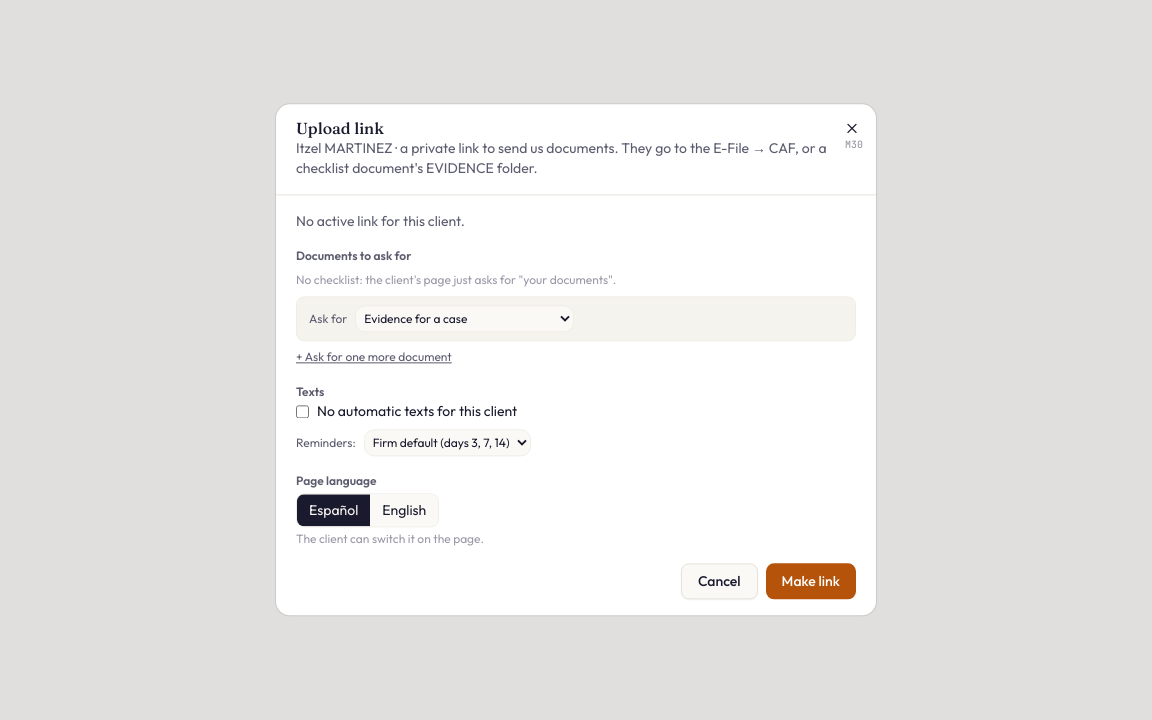
Test: Buzón checklist in M30 › Ask for → Evidence → a case type: any type with a list, the client's own first; added ones can't be picked again
The width and height of the screenshot is (1152, 720).
Step 1. Select "Evidence for a case" in the dropdown labelled "Ask for" → (465, 319), box [355,306,574,332]
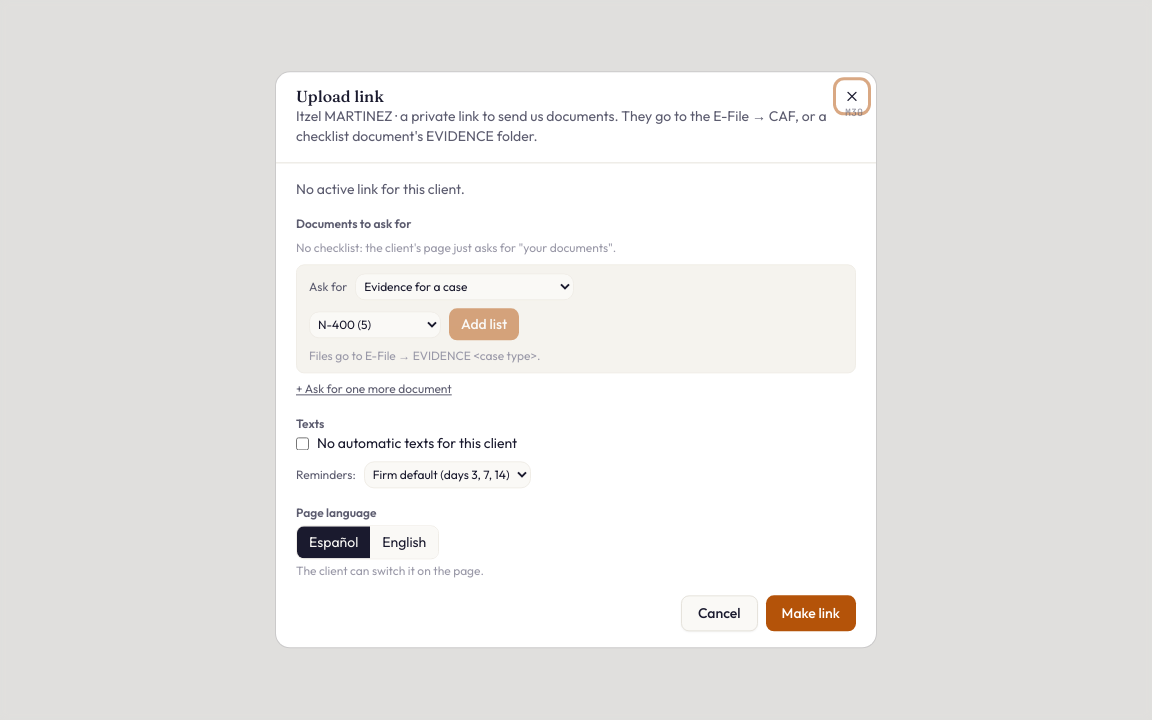
Step 2. Select "N-400 (5)" in the dropdown named "Type of case" → (375, 324), box [309,311,441,338]
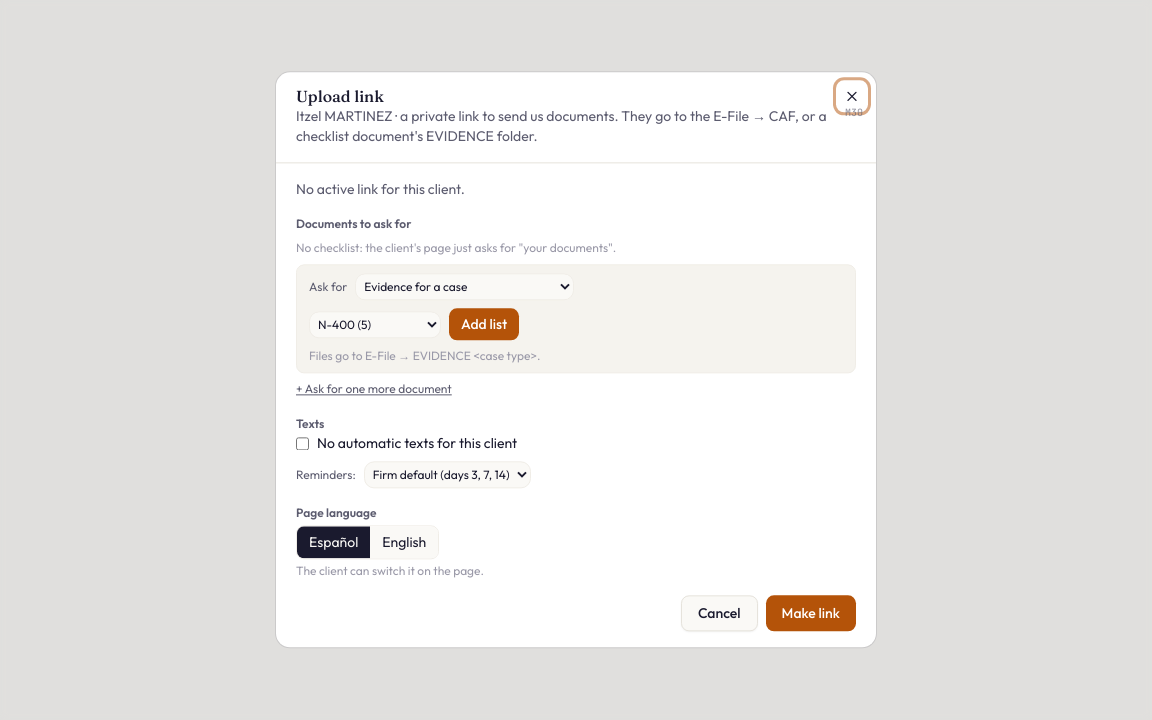
Result: the button "Add list" is shown
Step 3. Click the button "Add list" → (484, 324), box [449,308,519,340]
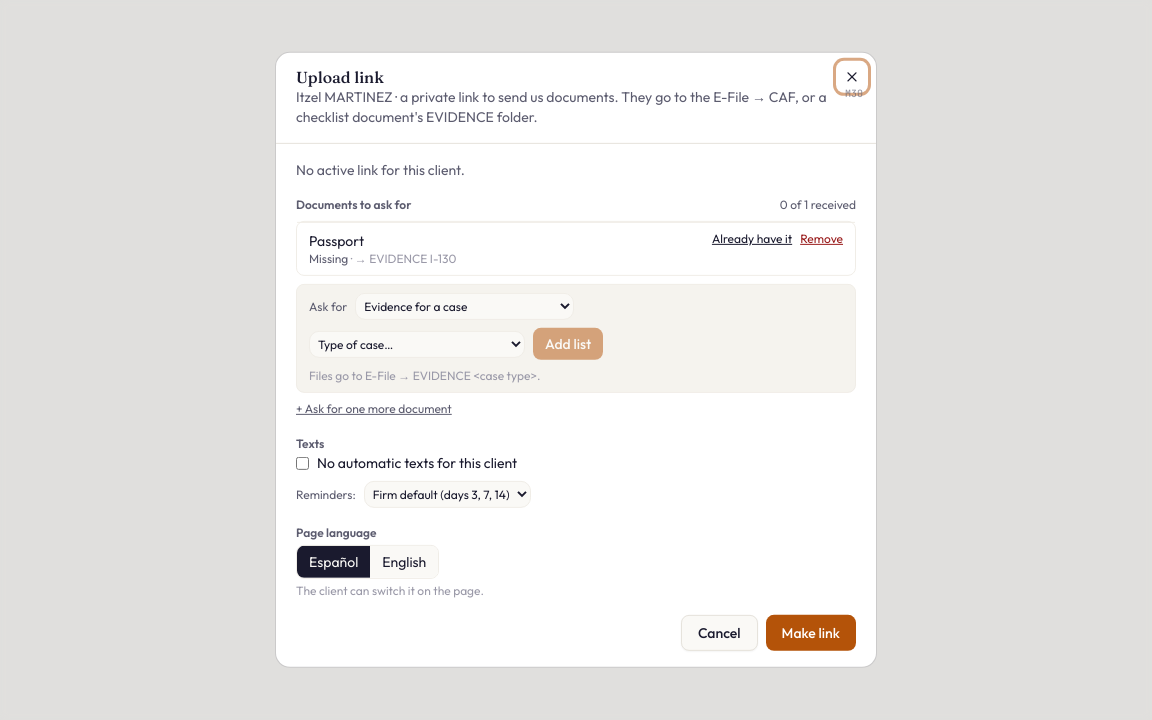
Result: the text "0 of 1 received" is shown at [780,197,856,213]
